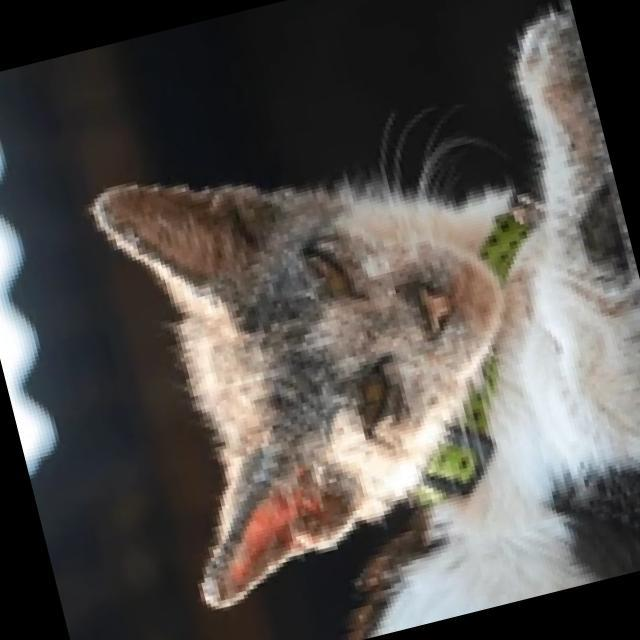Mange: (87, 180, 225, 302), (274, 486, 368, 568), (317, 305, 398, 369)
